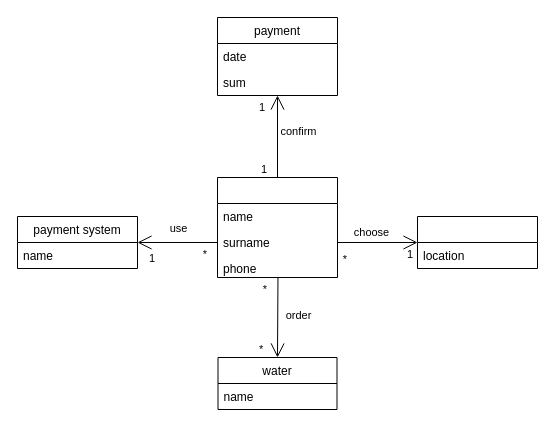
This 555x430 diagram has some shape labels left out. The box of each missing label's shape, as (x1, y1, x2, y2) in pixels:
shop: (416, 216, 538, 268)
user: (216, 176, 338, 278)
